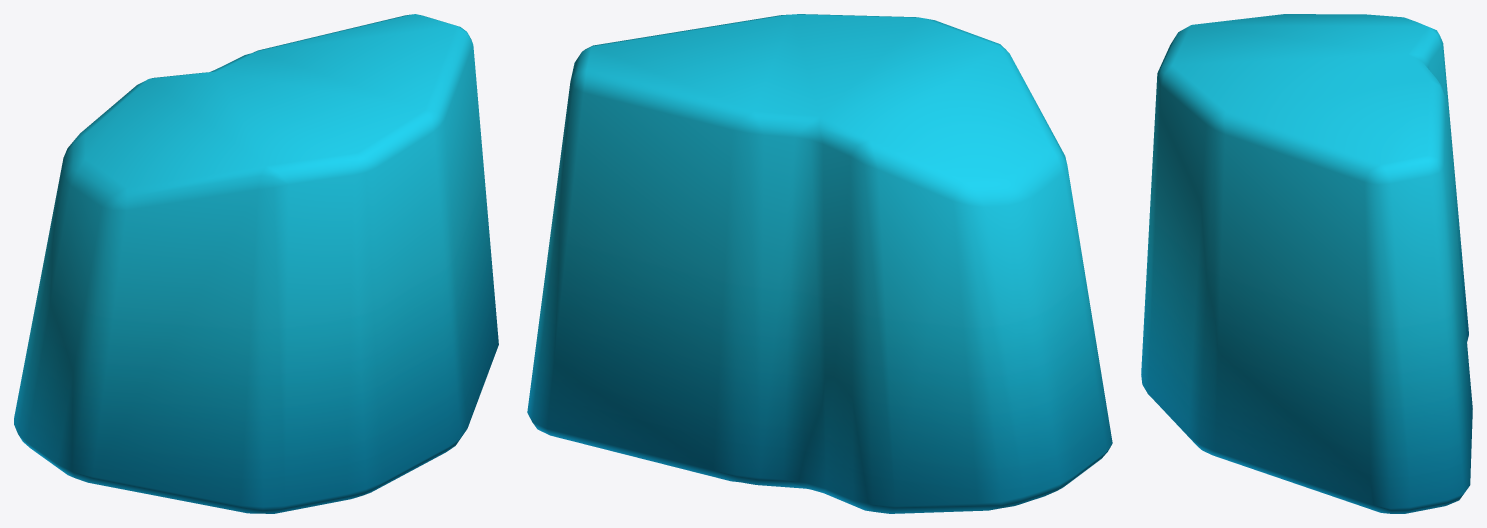
The model's file is Ice_04.fbx.
3 views of the same model, side by side, from view 1: azimuth 30°, elevation 25°; view 2: azimuth 150°, elevation 25°; view 3: azimuth 270°, elevation 25° (orthographic). The views are drawn at different scales.
Visible parts, largest first — view 1: Ice_04; view 2: Ice_04; view 3: Ice_04.
Part boxes in pixels (x1,y1,x2,y2): Ice_04: (14,14,498,513); Ice_04: (527,14,1112,513); Ice_04: (1141,14,1472,513).
Size of the model in its own units: 872 by 519 by 581.
